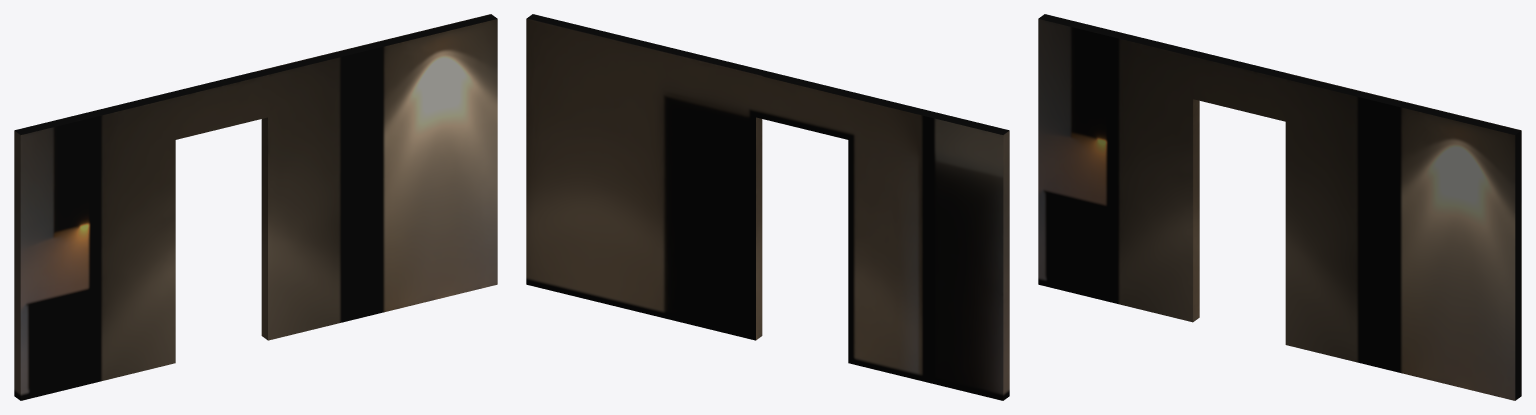
3 renders of one model, left to right at view 1: azimuth 30°, elevation 25°; view 2: azimuth 150°, elevation 25°; view 3: azimuth 330°, elevation 25°, orthographic.
Parts seen in each view (by area): view 1: Cube.003; view 2: Cube.003; view 3: Cube.003.
Part boxes in pixels (x1,y1,x2,y2): Cube.003: (14, 14, 497, 400); Cube.003: (526, 14, 1009, 400); Cube.003: (1038, 14, 1521, 400).
Size of the model in its own units: 4.7 by 2.5 by 0.113.
1 material, 1 textured.
